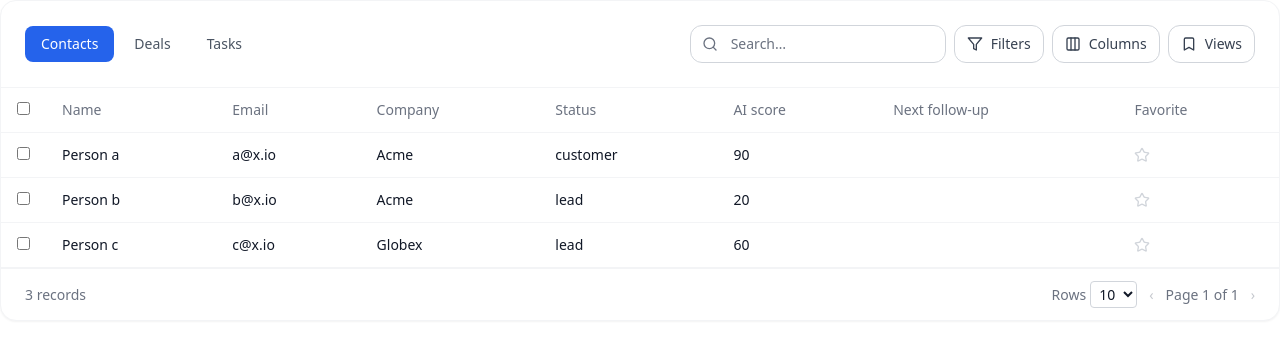
Test case: RecordTable › searches across fields
Type "globex" into the field named "Search table" at (818, 44), box [690, 25, 946, 63]
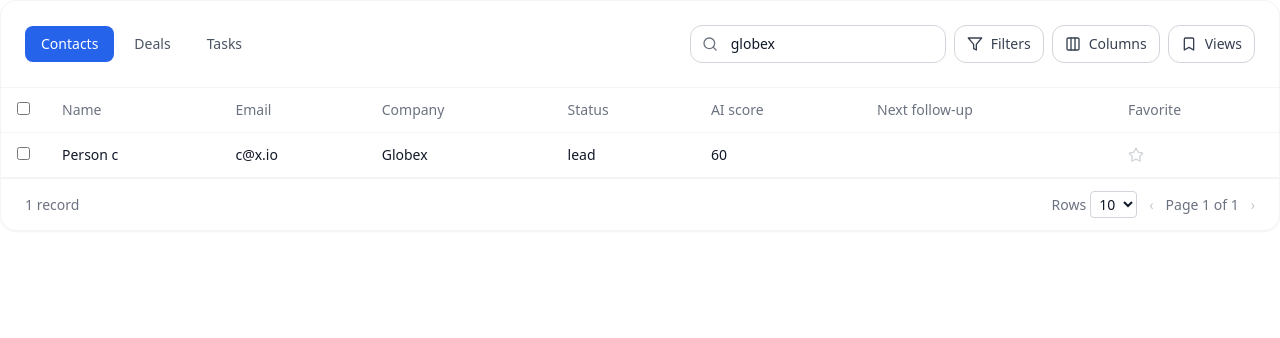
Replace the text in the field named "Search table" with "zzz" at (818, 44), box [690, 25, 946, 63]
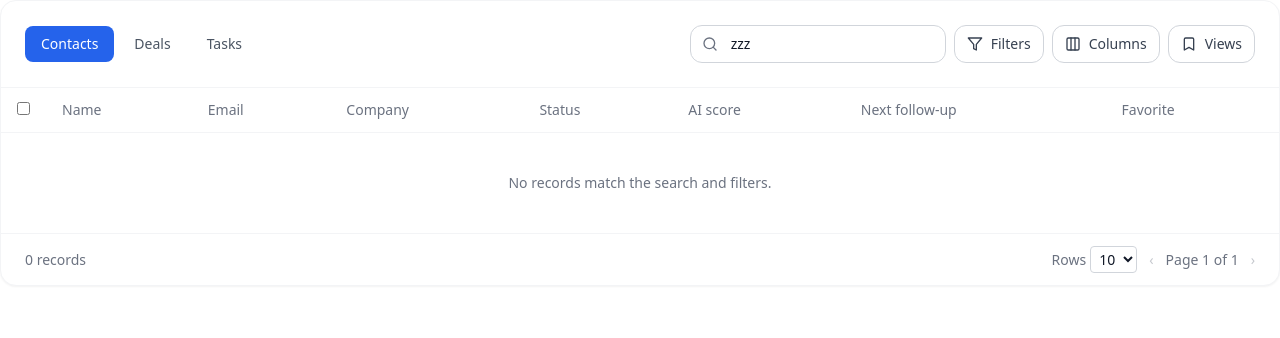
Now the text "No records match the search and filters." is shown, box [1, 132, 1279, 233]
